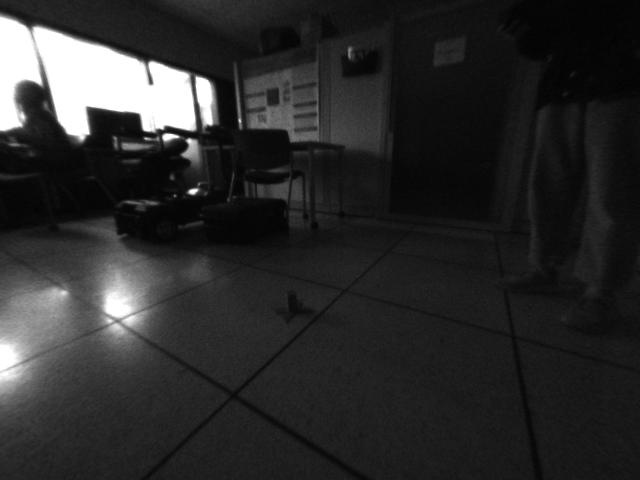x: (271, 288, 314, 327)
